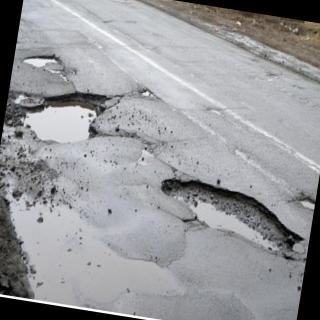pothole: (160, 179, 303, 260), (6, 92, 111, 144), (22, 54, 61, 68)
